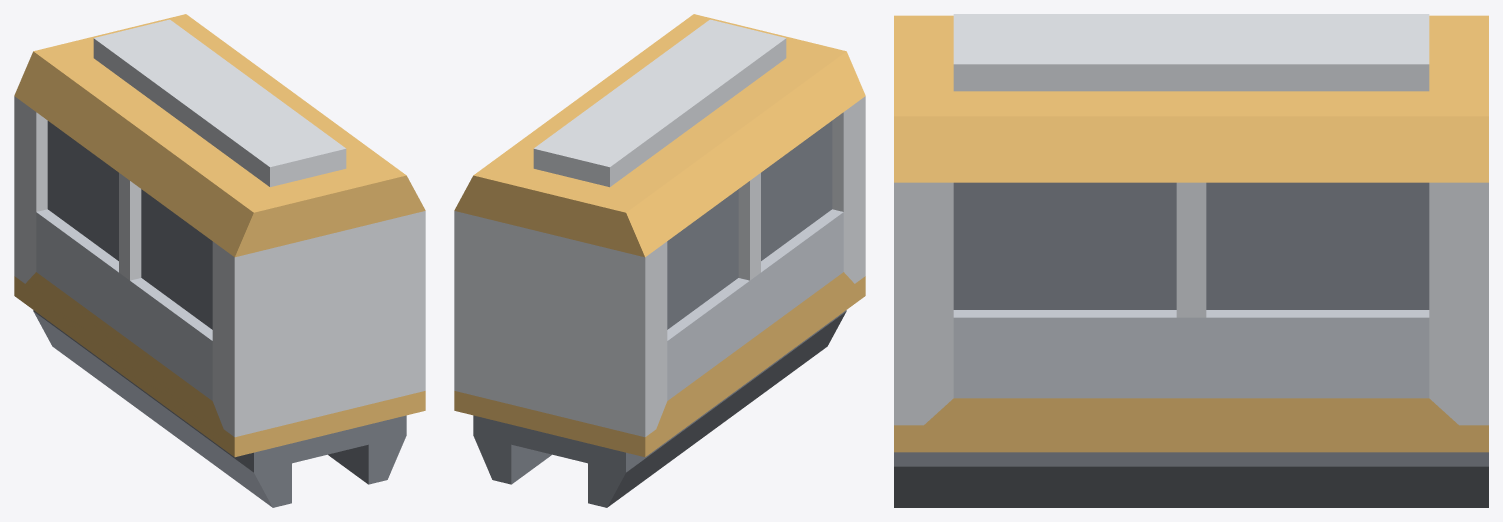
The model's file is monorail_trainPassenger.gltf.
The picture shows the model from 3 angles, left to right: view 1: azimuth 30°, elevation 25°; view 2: azimuth 150°, elevation 25°; view 3: azimuth 270°, elevation 25°; orthographic projection. The views are drawn at different scales.
Parts seen in each view (by area): view 1: monorail_trainPassenger; view 2: monorail_trainPassenger; view 3: monorail_trainPassenger.
Boxes of the visible parts, box(x1,y1,x2,y2) form: monorail_trainPassenger: box(14, 14, 425, 507); monorail_trainPassenger: box(454, 14, 865, 507); monorail_trainPassenger: box(894, 14, 1488, 507).
Bounding box in the file's own units: 0.5 × 0.8 × 1.
